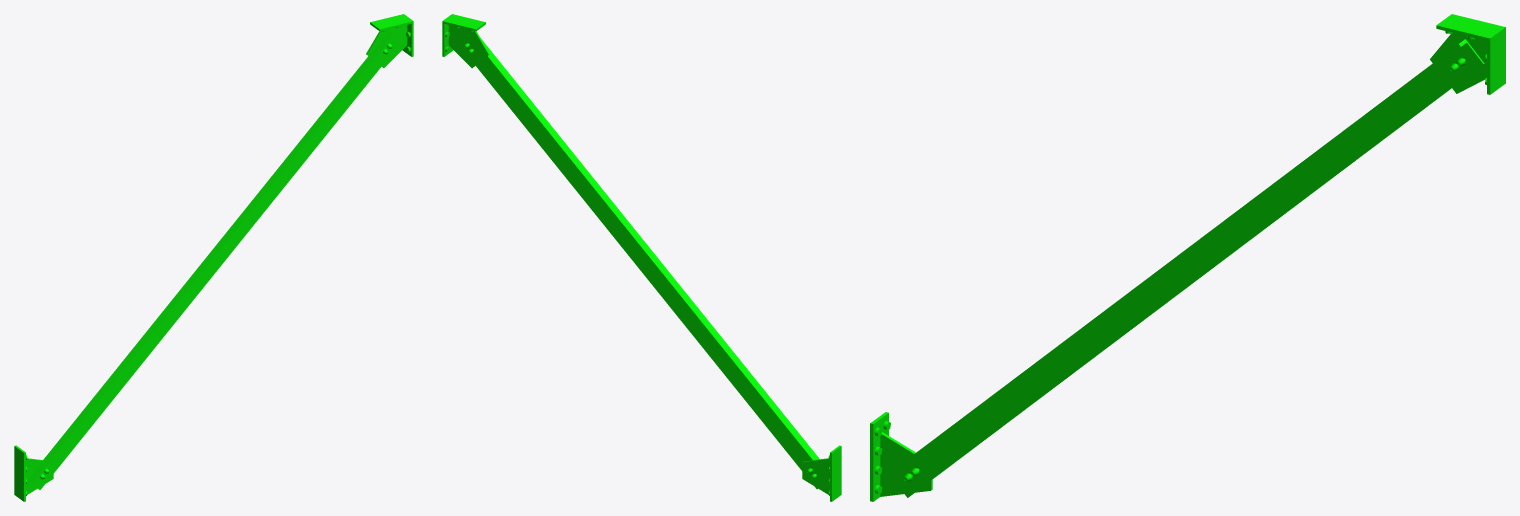
File: Structure02_Support01b.fbx
The picture shows the model from 3 angles, left to right: view 1: azimuth 30°, elevation 25°; view 2: azimuth 150°, elevation 25°; view 3: azimuth 330°, elevation 25°; orthographic projection. The views are drawn at different scales.
Visible parts, largest first — view 1: Structure02_Support01b_LOD0; view 2: Structure02_Support01b_LOD0; view 3: Structure02_Support01b_LOD0.
Boxes of the visible parts, x1,y1,x2,y2 form: Structure02_Support01b_LOD0: (14, 14, 413, 501); Structure02_Support01b_LOD0: (442, 14, 841, 501); Structure02_Support01b_LOD0: (870, 14, 1505, 501).
Size of what is drawn, in the model's own units: 288 by 272 by 12.5.
